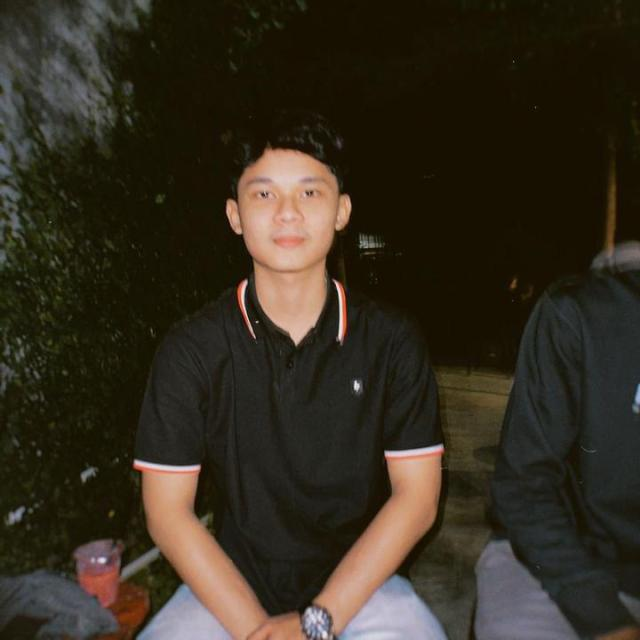nohelmet: (215, 108, 360, 280)
